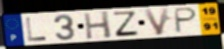3: (53, 13, 76, 42)
H: (83, 10, 114, 41)
L: (24, 17, 49, 43)
P: (174, 7, 199, 34)
V: (142, 6, 172, 36)
Z: (112, 11, 141, 38)
